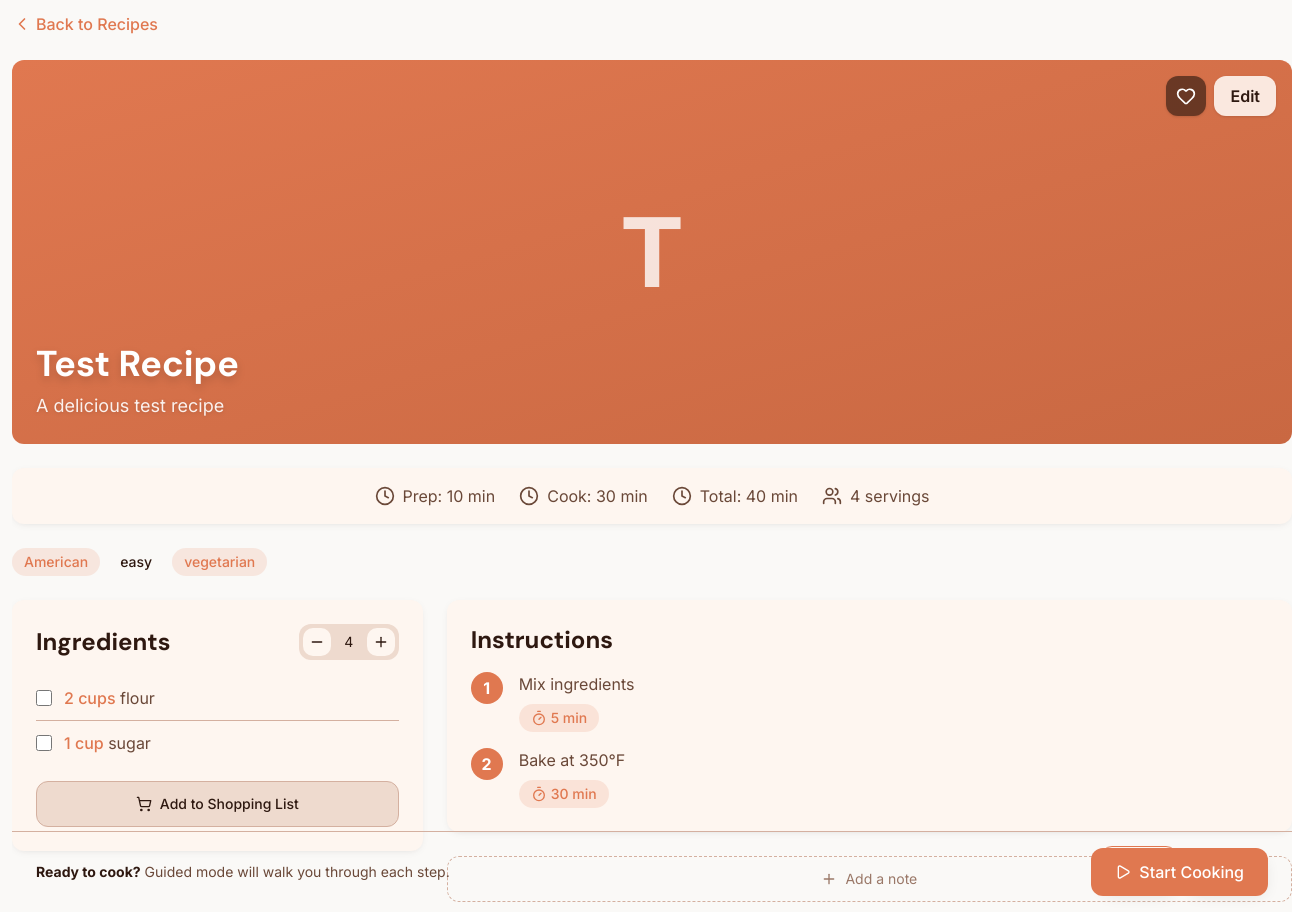
Scenario: RecipeDetailPage › Servings Adjuster › should decrease servings when - button is clicked
The width and height of the screenshot is (1292, 912).
Click the button named "decrease servings": click(317, 642) [303, 628, 331, 656]
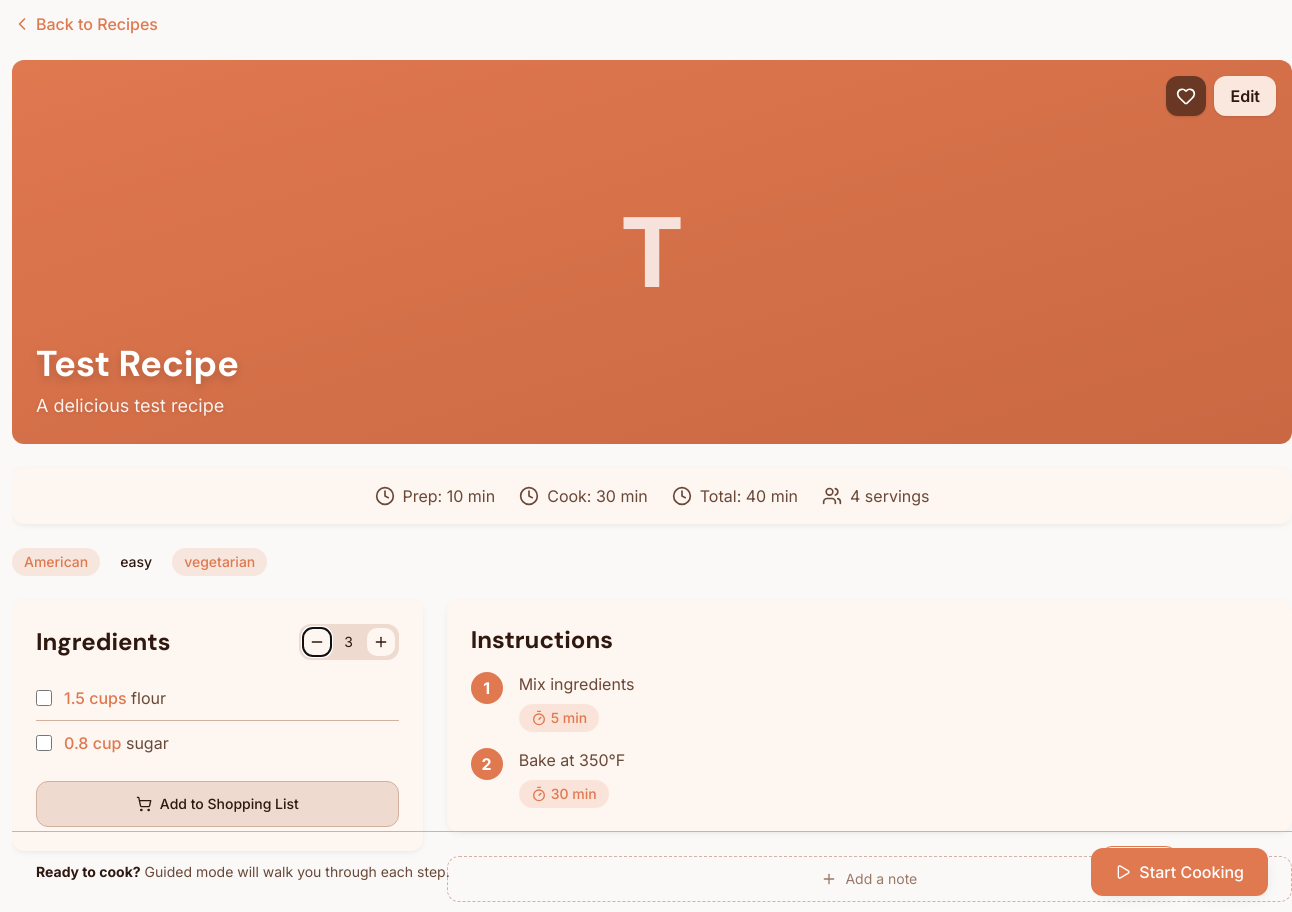
Result: the text with test id "servings-adjuster-value" reads "3" at [344, 633, 353, 650]
